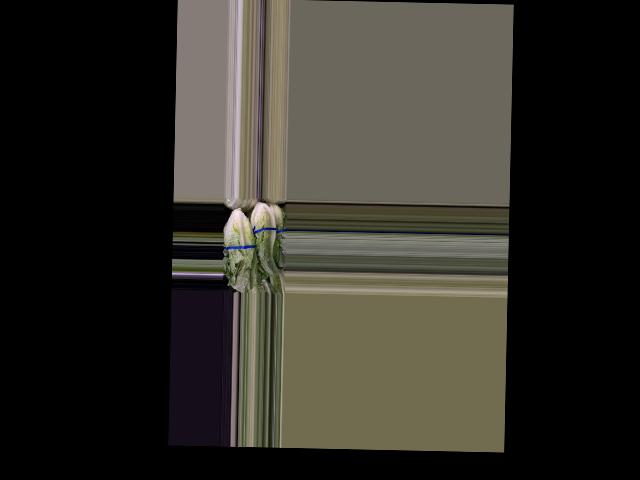lettuce: (249, 200, 282, 277)
